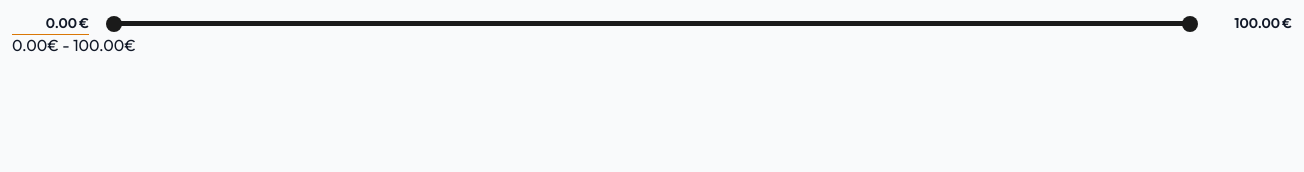
Range Component › prevents handles from crossing during drag
The width and height of the screenshot is (1304, 172).
Press the mouse on the slider with test id "min-handle" at (114, 24), box left=106, top=16, right=122, bottom=32
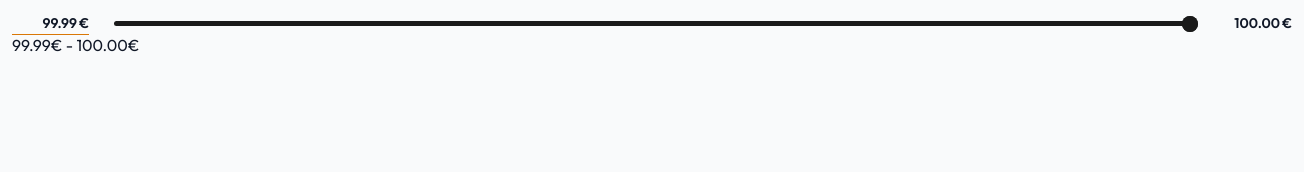
Expected: the text with test id "selection-result" reads "99.99€ - 100.00€", left=12, top=35, right=139, bottom=55
